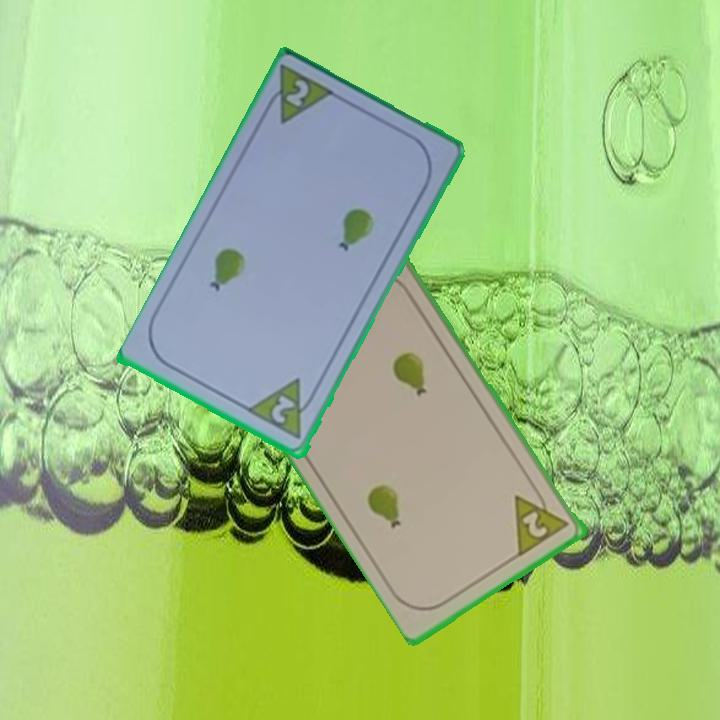2p: (511, 481, 573, 559), (267, 392, 299, 428), (282, 76, 312, 111)
